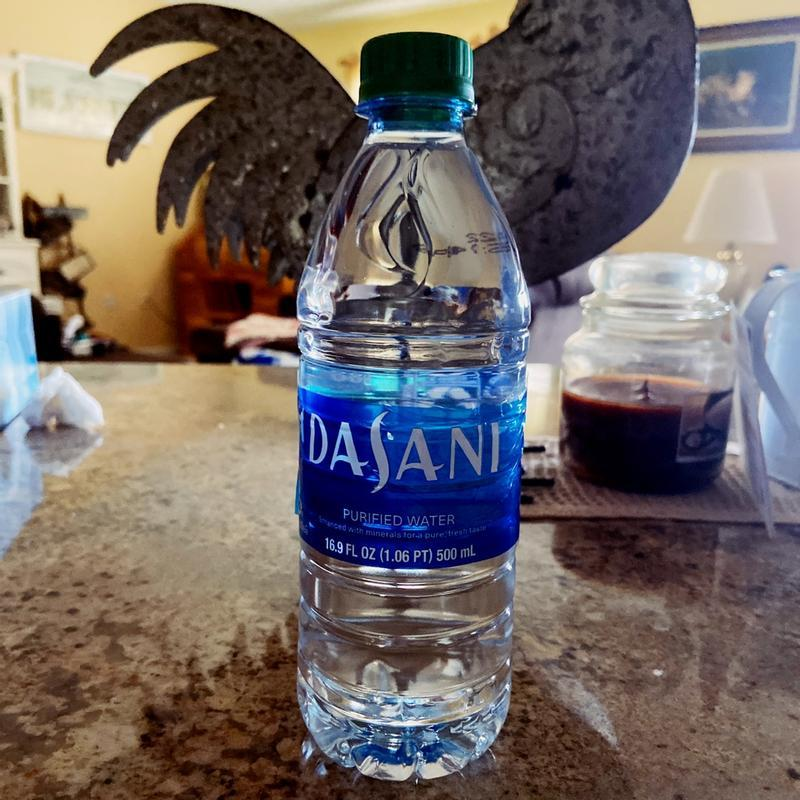bottle: (277, 12, 558, 799)
